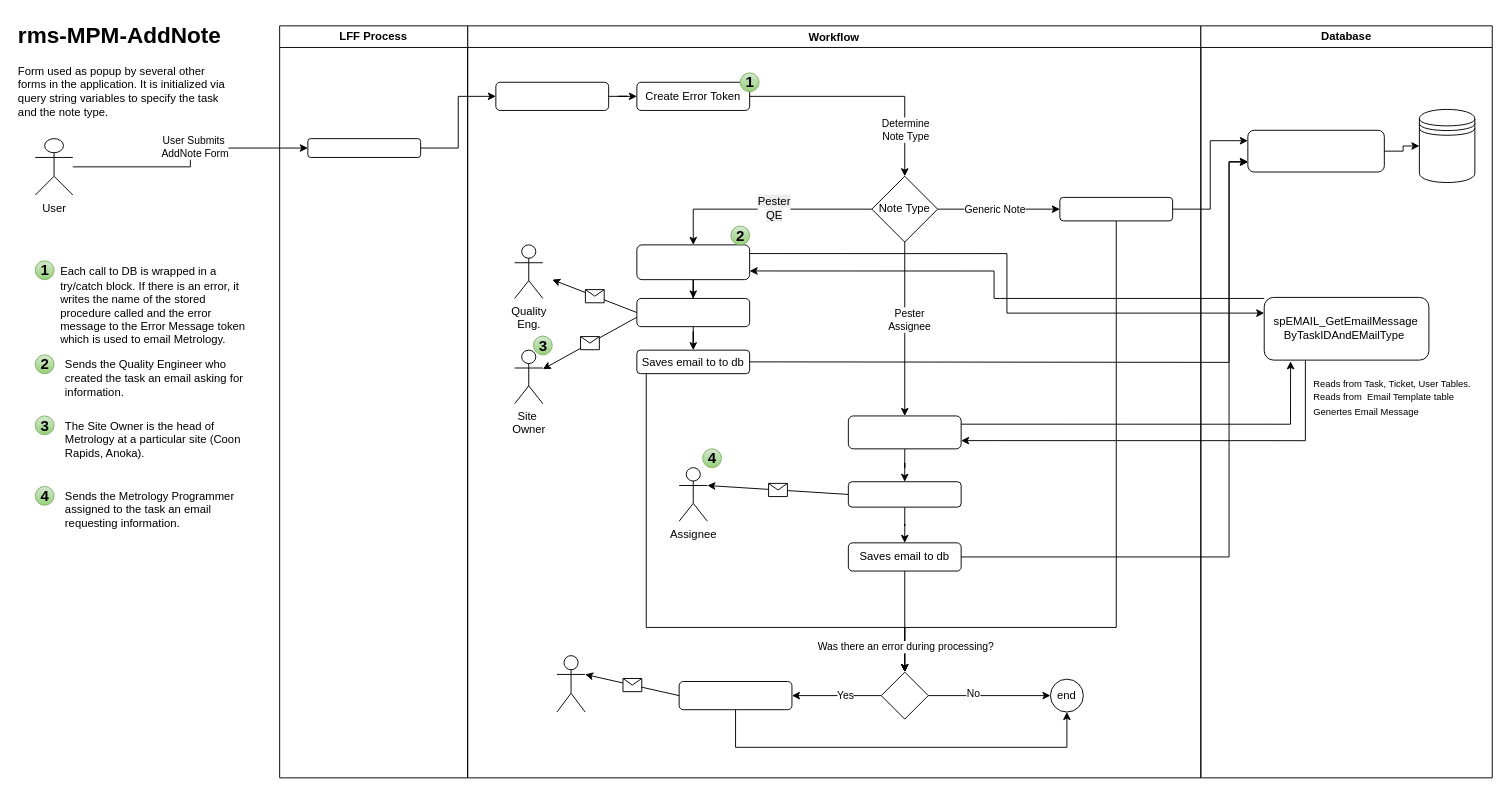
Image size: 1509x794. Some labels were removed from this diagram. The centre of each missing label's shape, as x and y in pixels:
"Exec Sproc" goes at point 1116,208.
"Get Assignee Pester Email Message" goes at point 904,432.
"Get QE Pester Email Message" goes at point 693,262.
"Metrology Dept" goes at point 570,683.
"Read Form Variables" goes at point 552,95.
"Send Email to Metrology Dept." goes at point 735,695.
"Sends Email to Assignee" goes at point 904,494.
"Sends EMail to QE Copies Site Owner" goes at point 693,312.
"spTASKNOTE_AddNew" goes at point 1315,150.
"Start LFF Process" goes at point 364,147.
"Task Notes Table" goes at point 1446,145.
